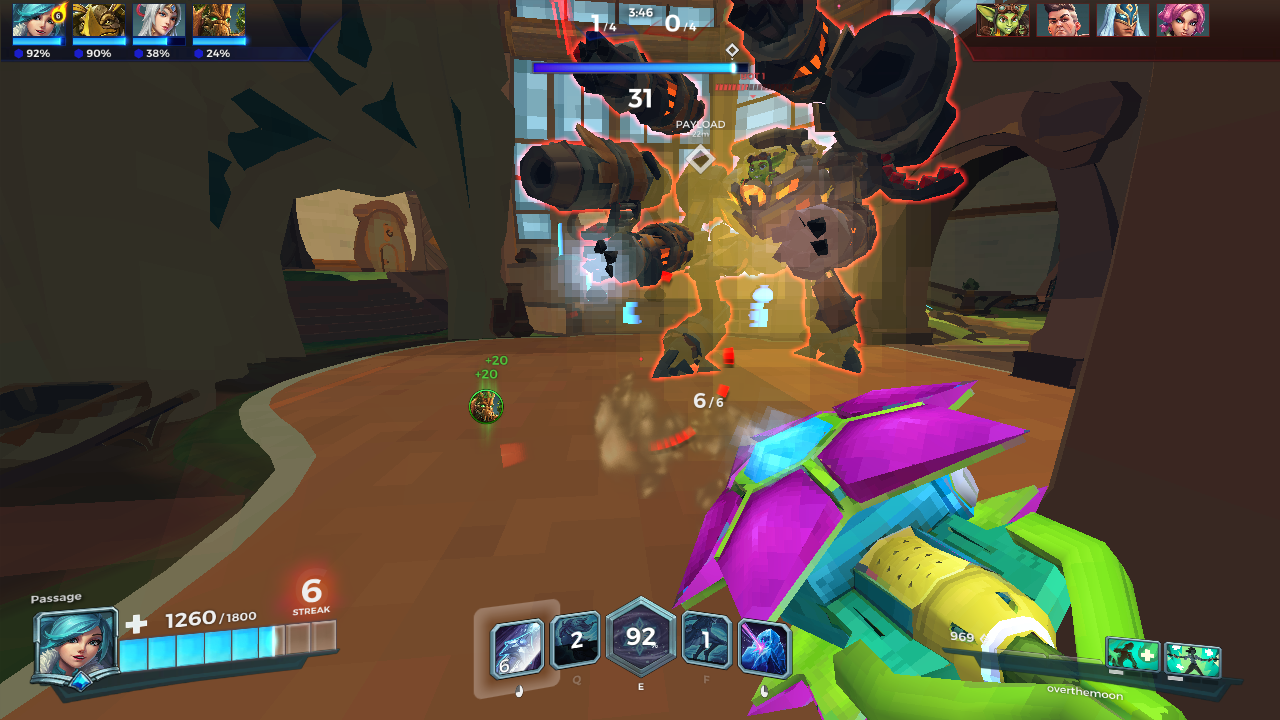model: (538, 24, 904, 373)
